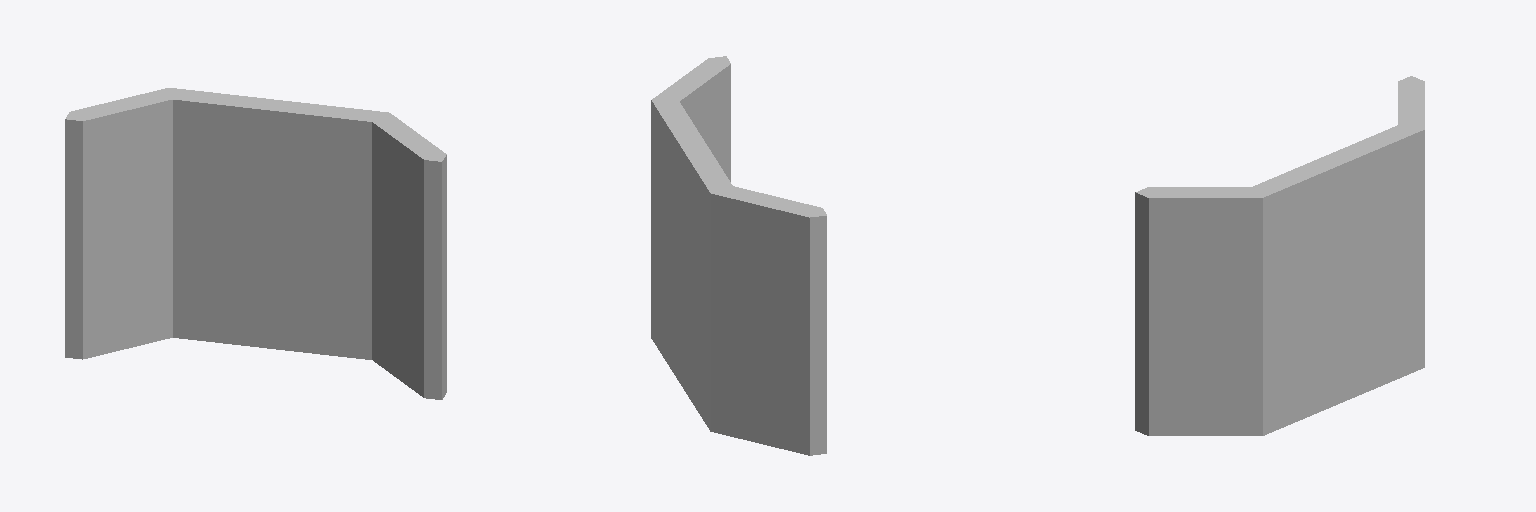
File: Wall_Tapered.obj
The picture shows the model from 3 angles: view 1: azimuth 30°, elevation 25°; view 2: azimuth 150°, elevation 25°; view 3: azimuth 270°, elevation 25°; orthographic projection.
Parts seen in each view (by area): view 1: object1; view 2: object1; view 3: object1.
Boxes of the visible parts, box(x1,y1,x2,y2) form: object1: box(65, 88, 446, 399); object1: box(651, 56, 826, 455); object1: box(1135, 76, 1424, 435).
Size of the model in its own units: 1.1 by 1 by 1.1.